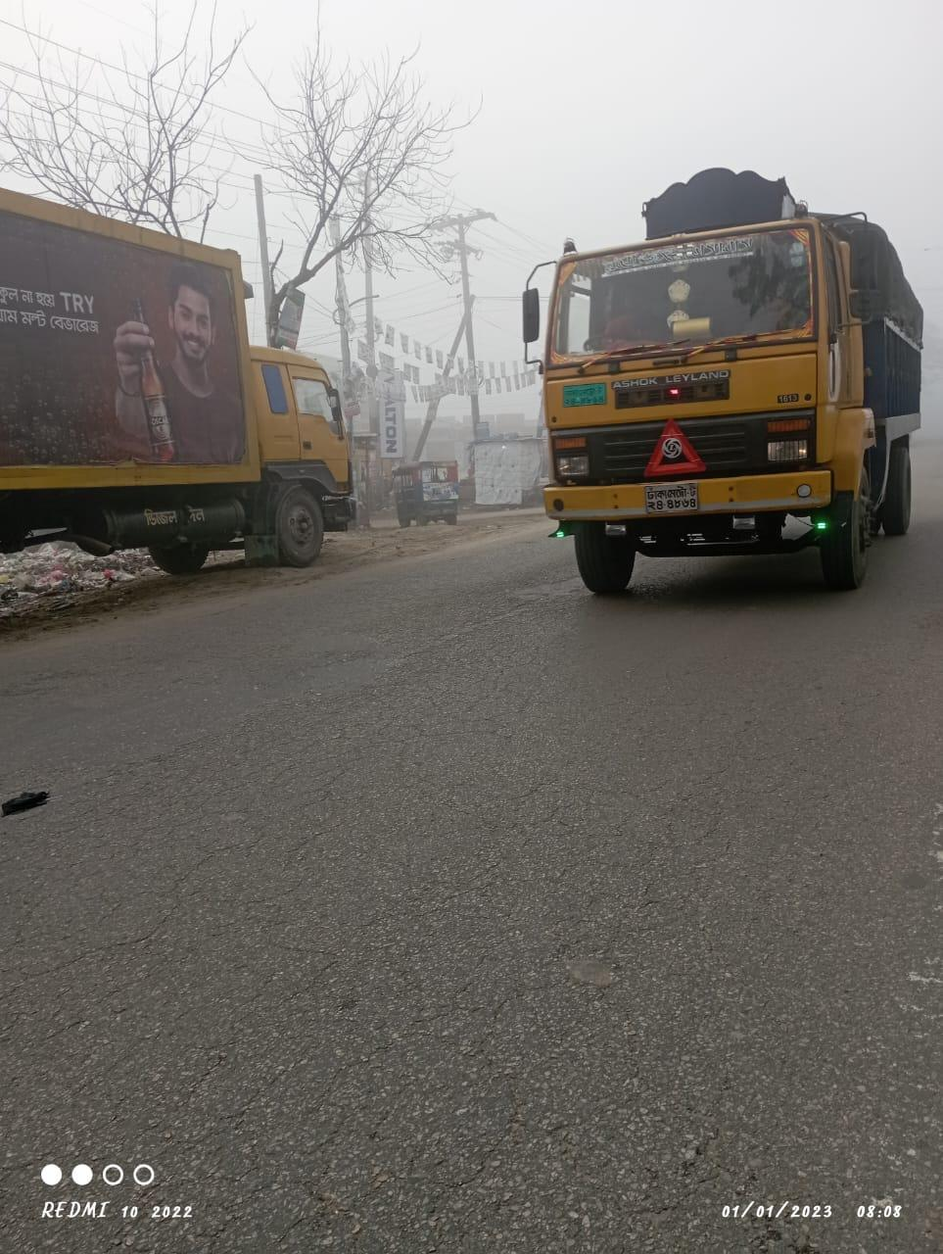Car: (388, 455, 483, 537)
Truck: (509, 158, 932, 627), (5, 172, 372, 588)
